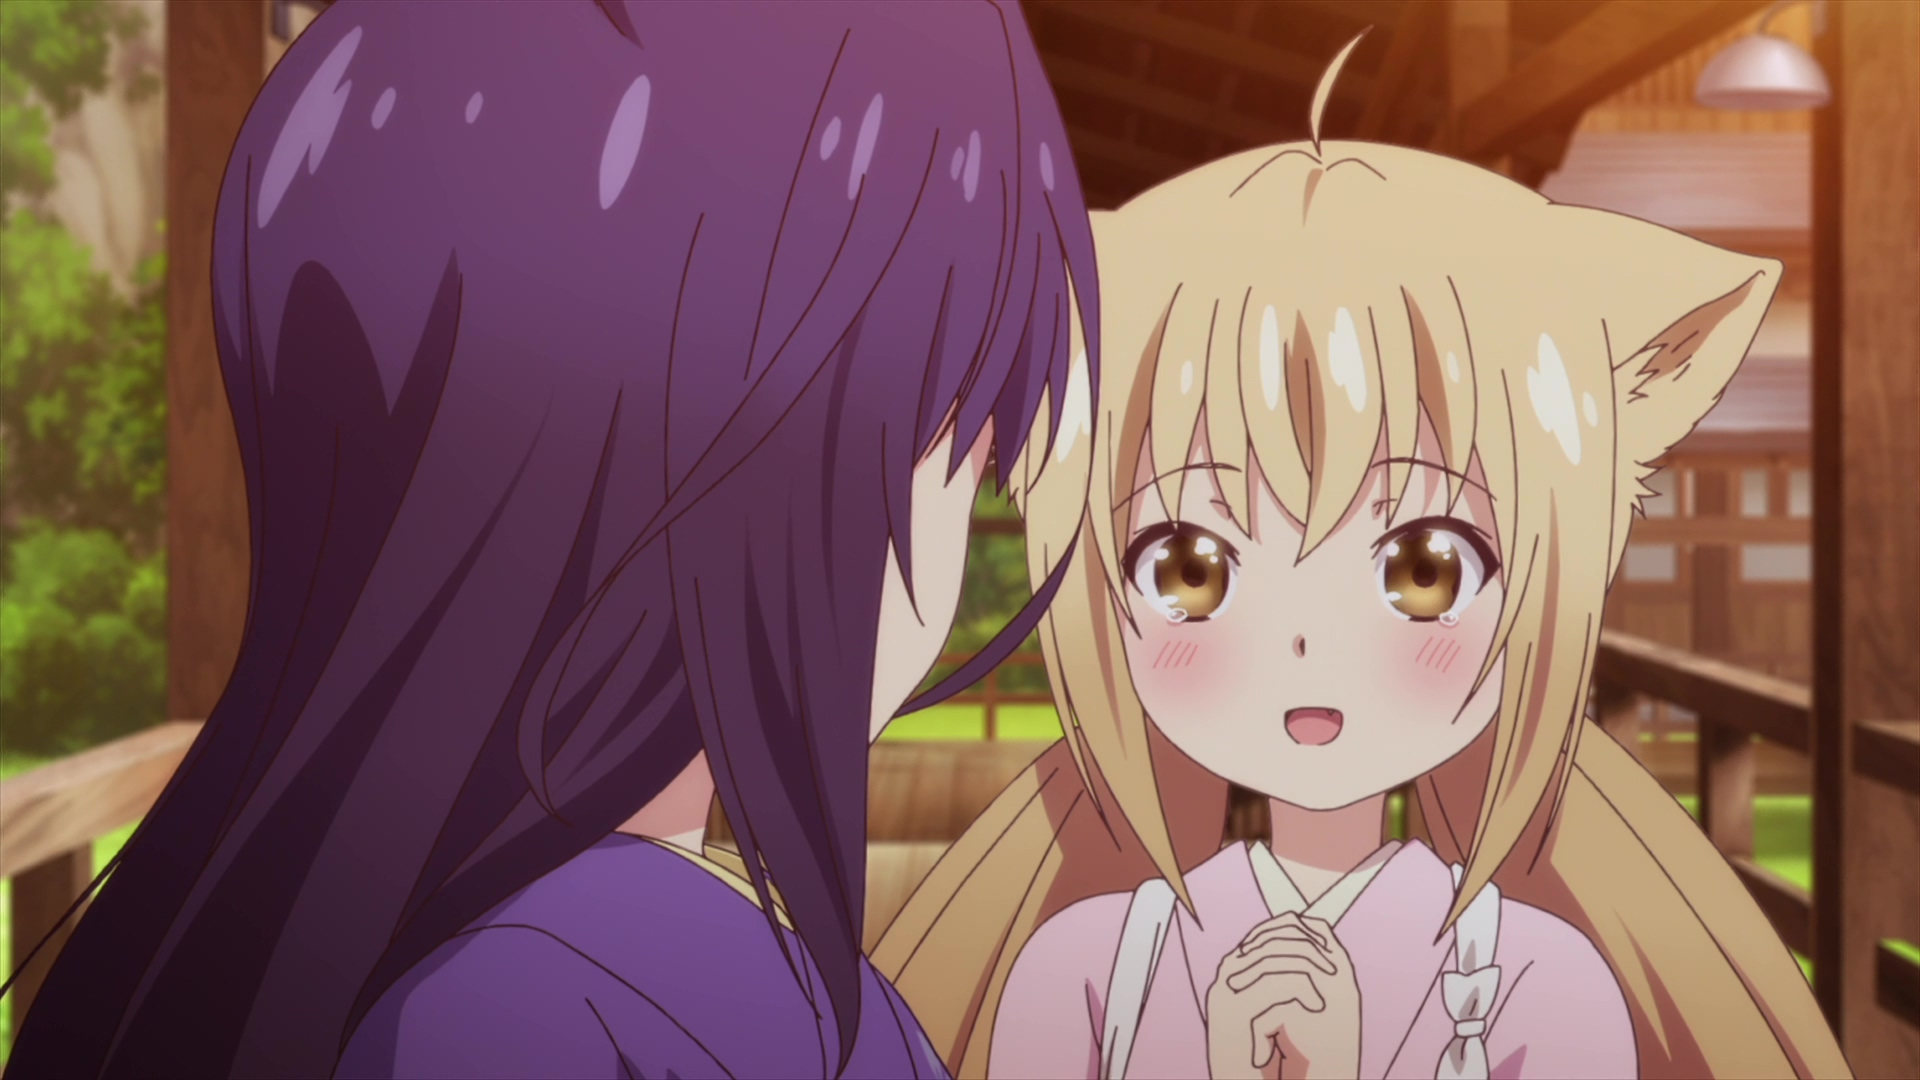柚: (869, 26, 1851, 1080)
皋: (1, 1, 1100, 1080)
